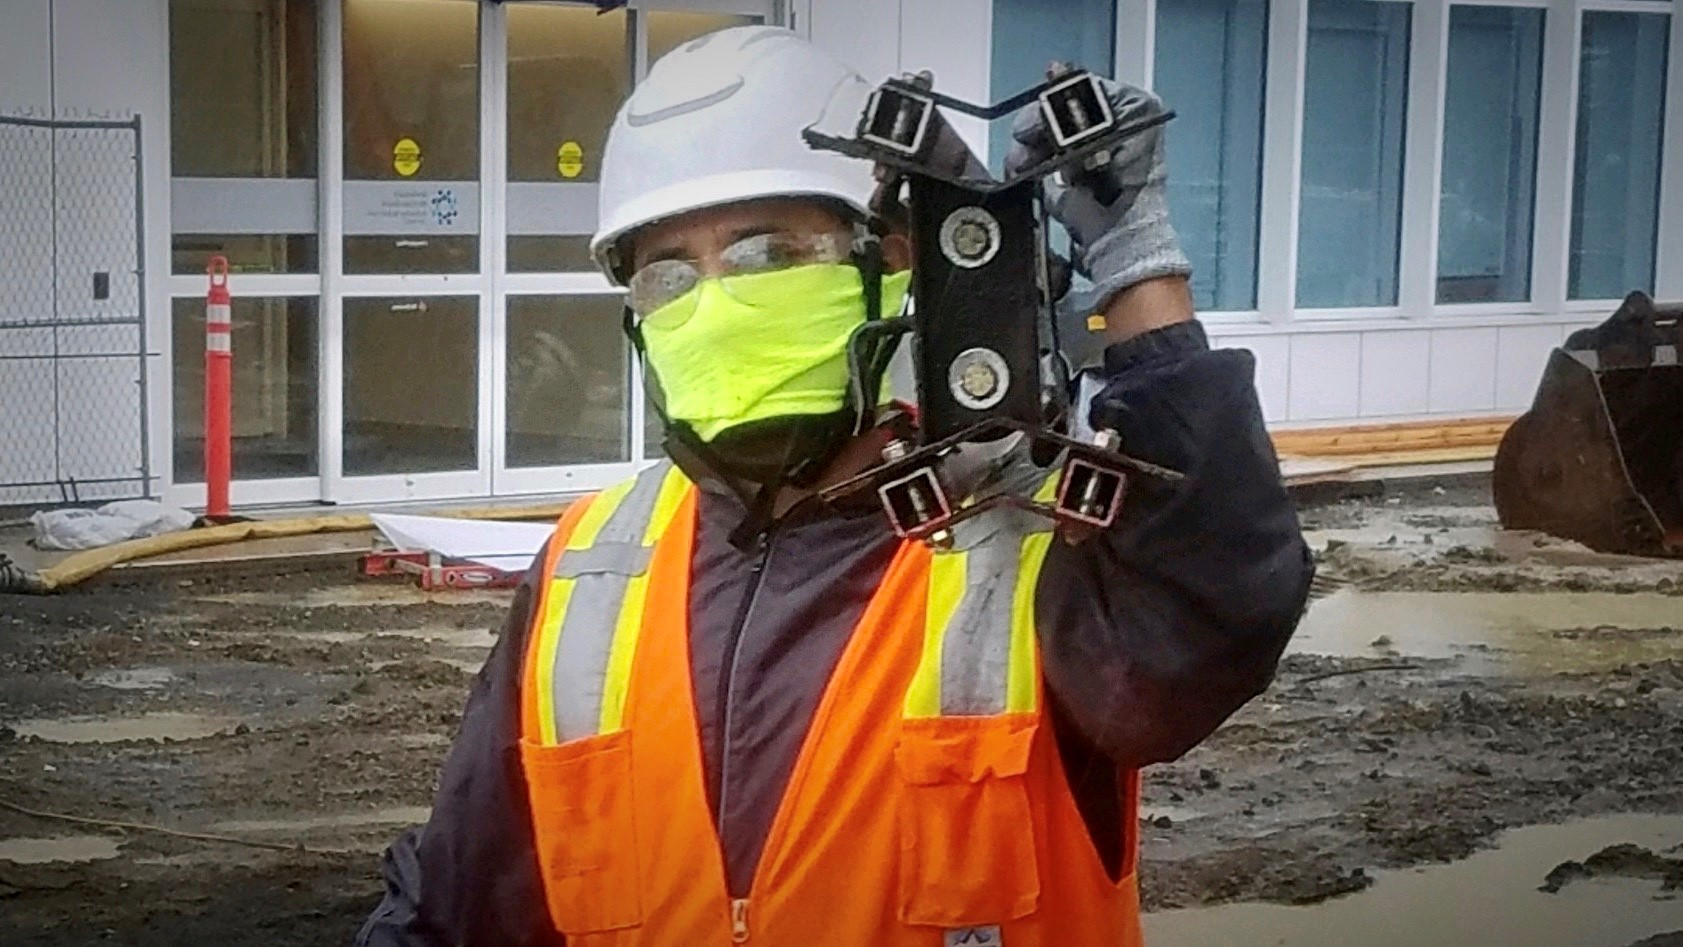with_mask: (630, 237, 883, 444)
